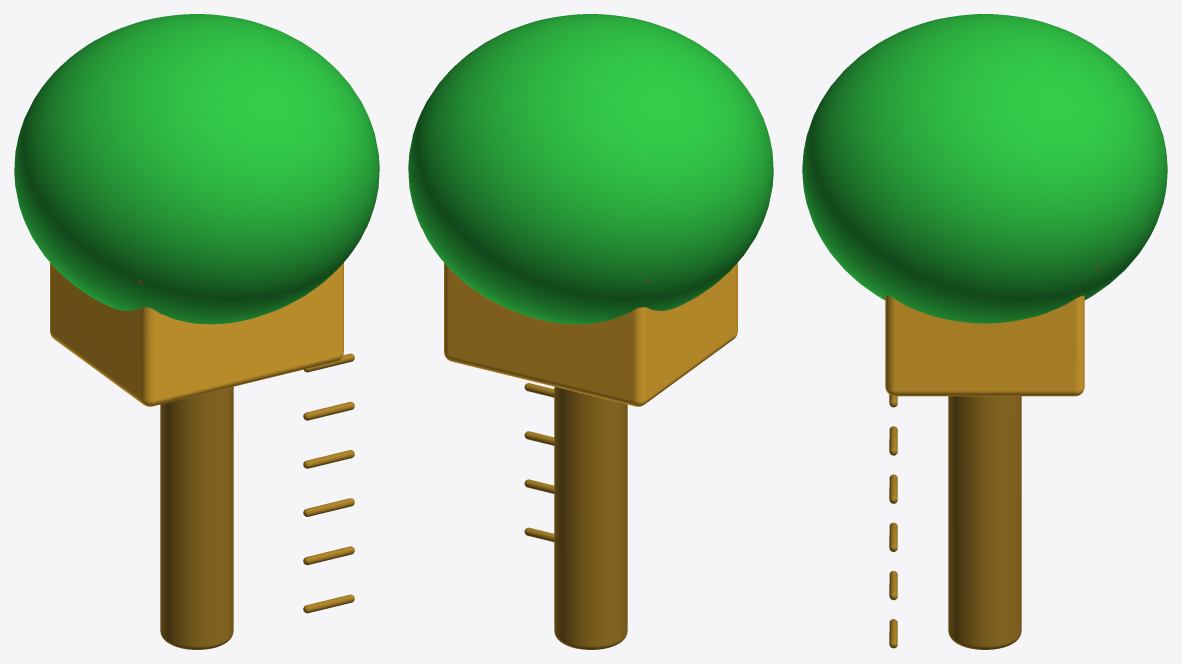
The model's file is suburban_cul_de_sac__treehouse.glb.
The picture shows the model from 3 angles, left to right: view 1: azimuth 30°, elevation 25°; view 2: azimuth 150°, elevation 25°; view 3: azimuth 270°, elevation 25°; orthographic projection.
Parts seen in each view (by area): view 1: Set; view 2: Set; view 3: Set.
Boxes of the visible parts, x1=… form: Set: x1=14, y1=14, x2=379, y2=649; Set: x1=408, y1=14, x2=773, y2=649; Set: x1=802, y1=14, x2=1167, y2=649.
Bounding box in the file's own units: 2.2 × 4 × 2.2.
